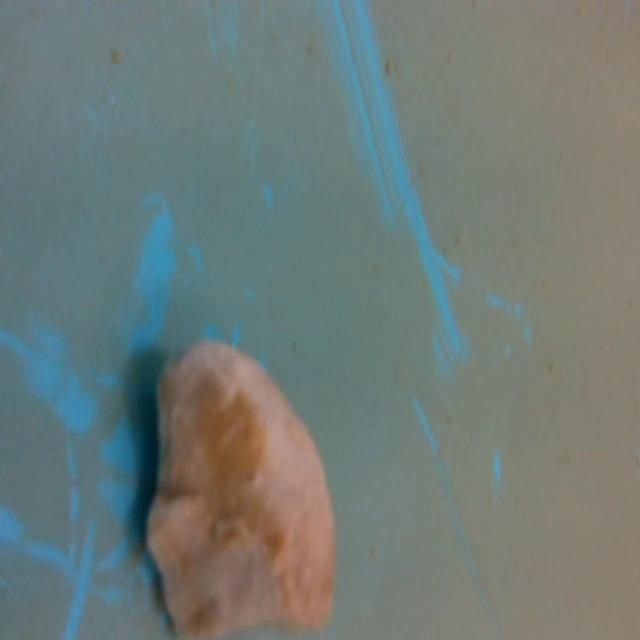rock: (139, 339, 342, 640)
